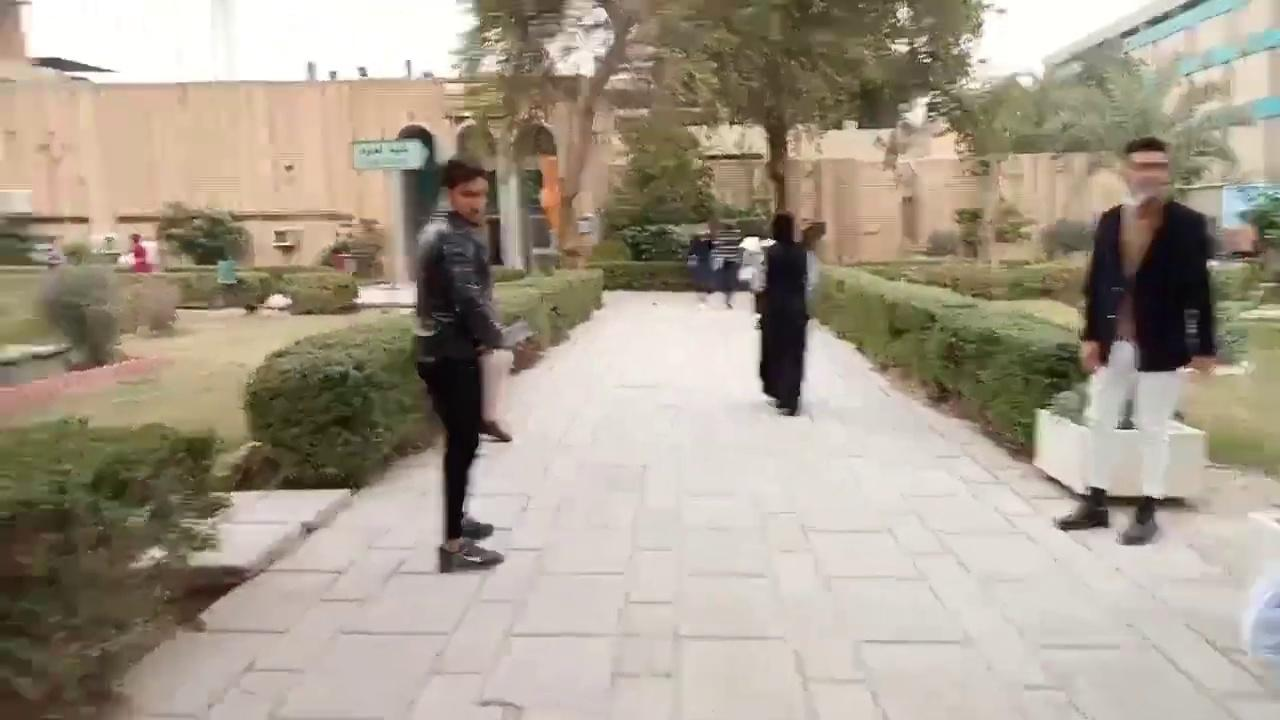fountain: (1030, 338, 1209, 504)
person: (1051, 135, 1218, 545), (412, 155, 521, 565), (753, 210, 811, 416), (712, 220, 744, 308), (117, 233, 152, 272)
tree: (446, 0, 1004, 277), (0, 412, 252, 718), (648, 0, 992, 224), (930, 43, 1247, 257), (446, 0, 645, 271), (240, 315, 435, 490), (598, 83, 718, 259), (35, 240, 121, 371), (159, 201, 251, 267), (1236, 190, 1279, 253), (953, 206, 983, 258)
